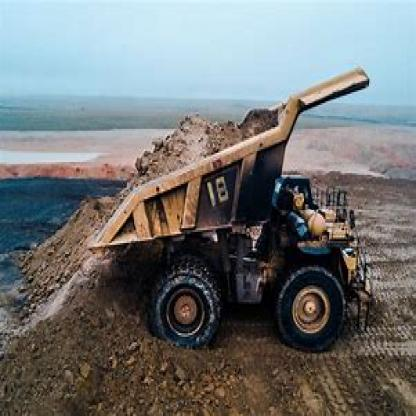dump_truck: (84, 46, 378, 363)
